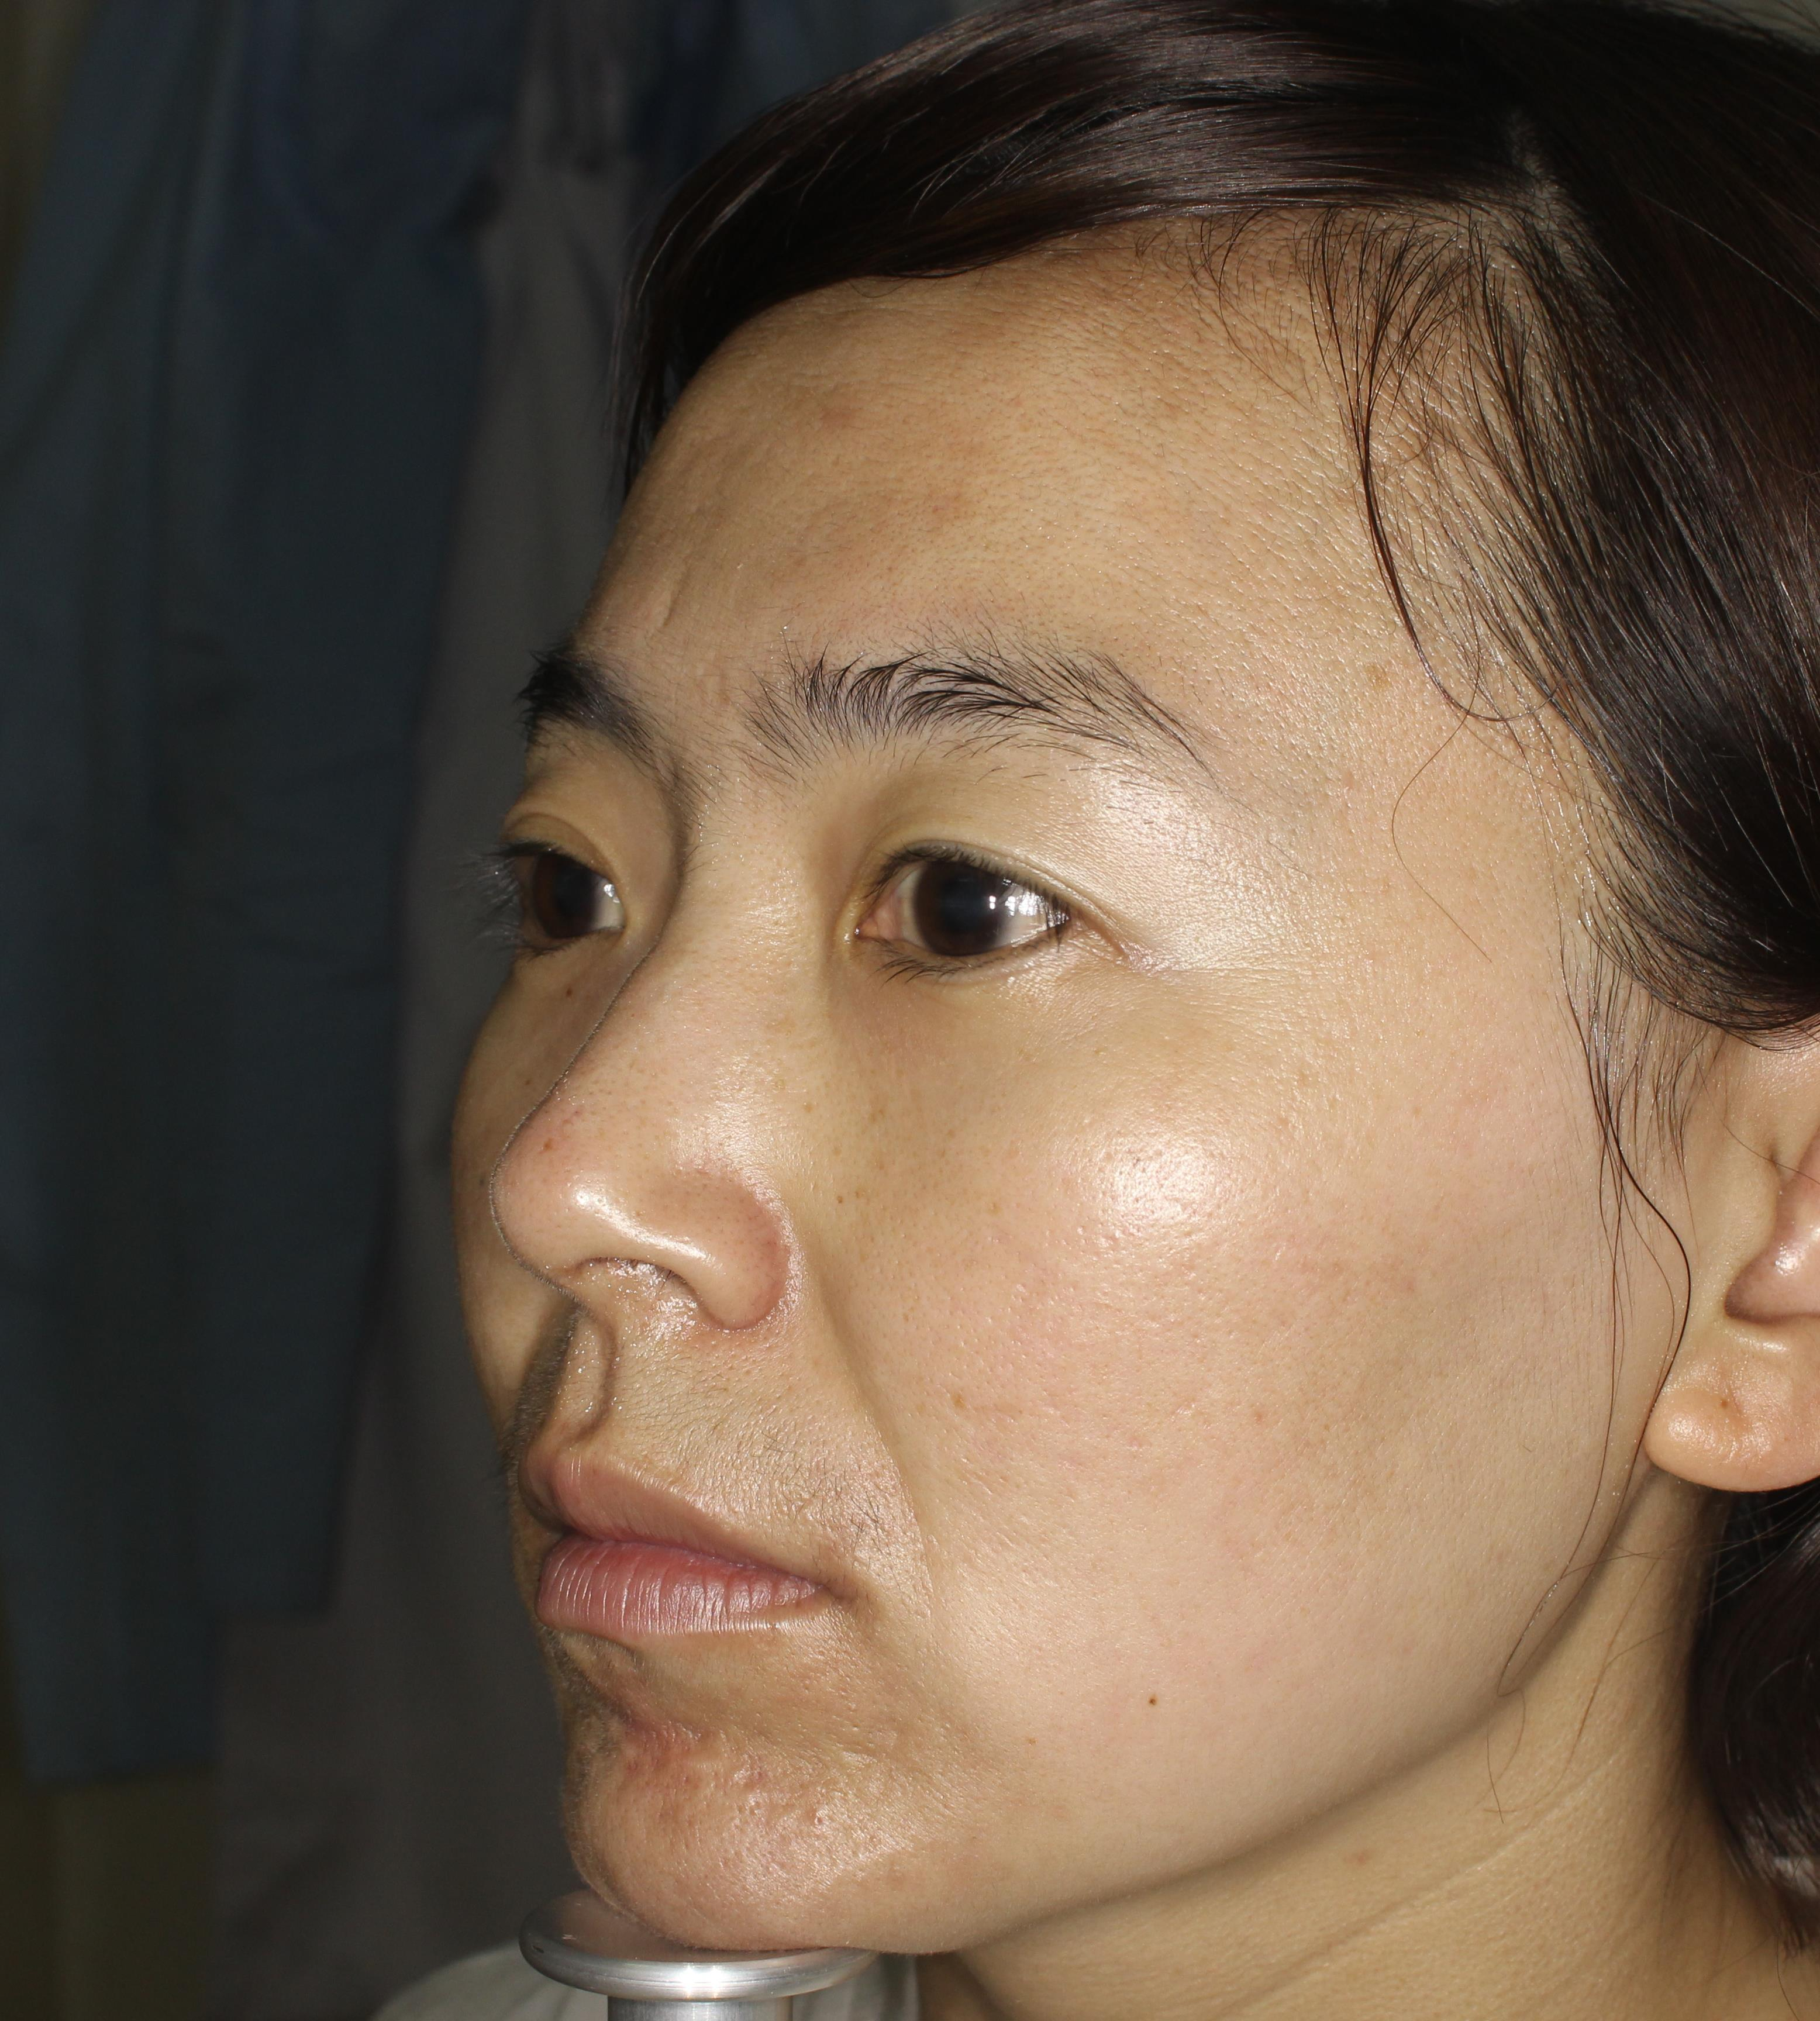fore: (624, 1745, 740, 1835), (592, 1649, 687, 1737)
